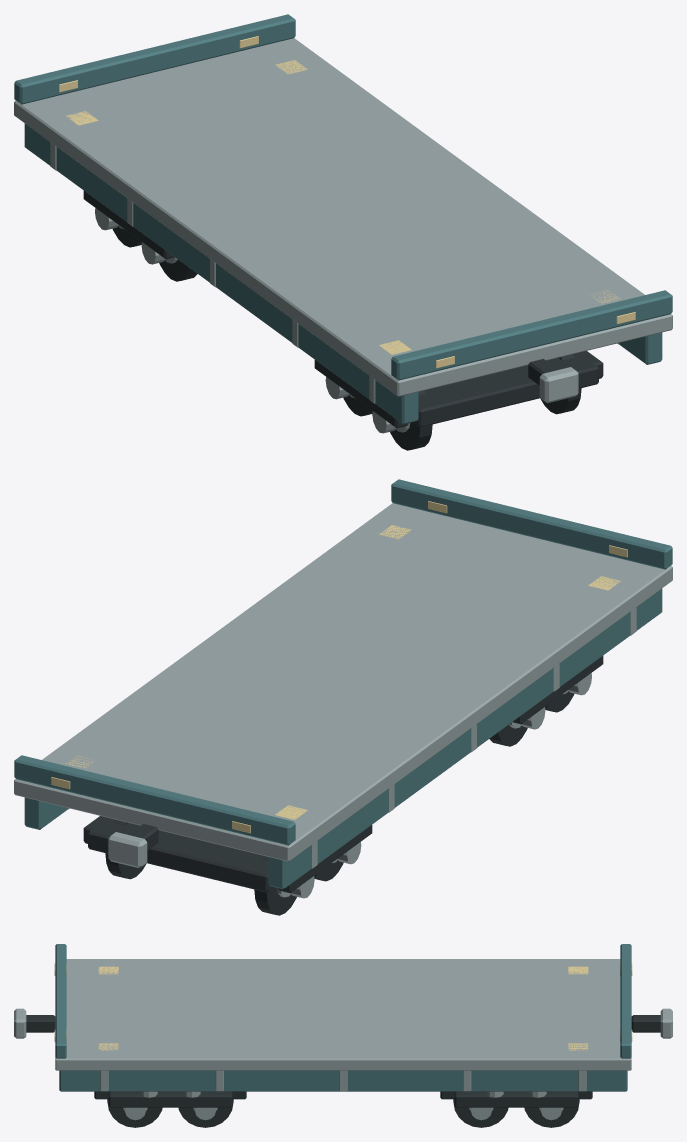
Rendered from train-flatcar-01.glb.
3 renders of one model, top to bottom at view 1: azimuth 30°, elevation 25°; view 2: azimuth 150°, elevation 25°; view 3: azimuth 270°, elevation 25°, orthographic. The views are drawn at different scales.
Parts seen in each view (by area): view 1: LoadDeck, LongitudinalGirder, EndSill, EndSill.001, BogieBolster, CouplerHead_Front, LongitudinalGirder.001, BogieSideFrame, BogieSideFrame.002, RailWheel; view 2: LoadDeck, LongitudinalGirder, EndSill.001, EndSill, BogieBolster.001, CouplerHead_Rear, LongitudinalGirder.001, BogieSideFrame.002, BogieSideFrame, RailWheel.006; view 3: LoadDeck, LongitudinalGirder.001, BogieSideFrame.001, BogieSideFrame.003, EndSill, EndSill.001, RailWheel.003, RailWheel.005, RailWheel.001, RailWheel.007, CouplerShank_Front, CouplerShank_Rear (+2 smaller).
Boxes of the visible parts, x1=… form: LoadDeck: x1=14, y1=38, x2=672, y2=396; LongitudinalGirder: x1=24, y1=123, x2=418, y2=424; EndSill: x1=391, y1=290, x2=672, y2=380; EndSill.001: x1=14, y1=14, x2=295, y2=104; BogieBolster: x1=413, y1=353, x2=598, y2=427; CouplerHead_Front: x1=539, y1=367, x2=578, y2=403; LongitudinalGirder.001: x1=619, y1=332, x2=662, y2=364; BogieSideFrame: x1=314, y1=360, x2=408, y2=428; BogieSideFrame.002: x1=83, y1=191, x2=174, y2=259; RailWheel: x1=390, y1=390, x2=432, y2=450; LoadDeck: x1=14, y1=503, x2=672, y2=861; LongitudinalGirder: x1=268, y1=588, x2=662, y2=889; EndSill.001: x1=14, y1=755, x2=295, y2=845; EndSill: x1=391, y1=479, x2=672, y2=569; BogieBolster.001: x1=88, y1=818, x2=273, y2=892; CouplerHead_Rear: x1=108, y1=832, x2=147, y2=868; LongitudinalGirder.001: x1=24, y1=797, x2=67, y2=829; BogieSideFrame.002: x1=278, y1=825, x2=372, y2=893; BogieSideFrame: x1=512, y1=656, x2=603, y2=724; RailWheel.006: x1=254, y1=855, x2=296, y2=915; LoadDeck: x1=55, y1=959, x2=631, y2=1070; LongitudinalGirder.001: x1=59, y1=1070, x2=627, y2=1091; BogieSideFrame.001: x1=108, y1=1091, x2=232, y2=1107; BogieSideFrame.003: x1=454, y1=1091, x2=578, y2=1107; EndSill: x1=55, y1=944, x2=66, y2=1058; EndSill.001: x1=620, y1=944, x2=631, y2=1058; RailWheel.003: x1=178, y1=1099, x2=233, y2=1127; RailWheel.005: x1=453, y1=1099, x2=508, y2=1127; RailWheel.001: x1=107, y1=1099, x2=162, y2=1127; RailWheel.007: x1=524, y1=1099, x2=579, y2=1127; CouplerShank_Front: x1=26, y1=1015, x2=55, y2=1032; CouplerShank_Rear: x1=631, y1=1015, x2=660, y2=1032.
Size of the model in its own units: 2.9 by 1.4 by 8.
